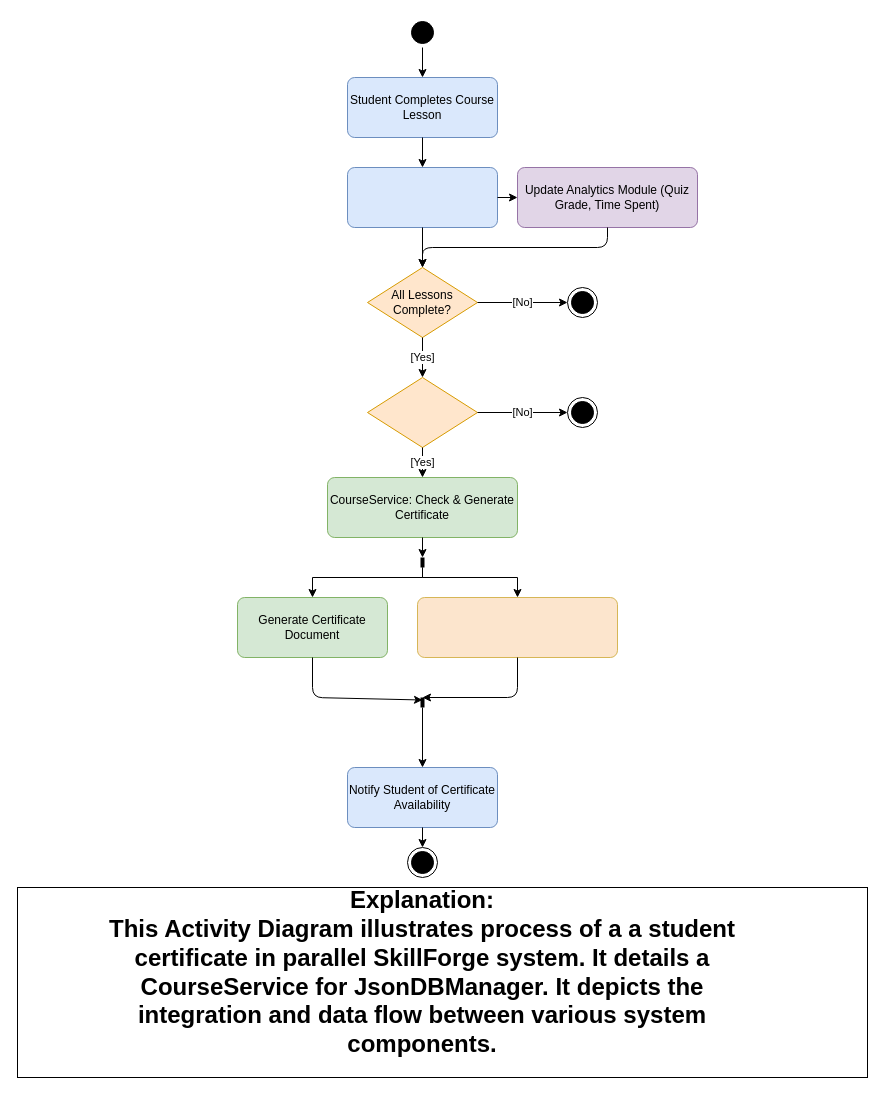
Some shapes in this 885 by 1095 pixel diagram are drawn without their labels. The shapes that lost their labels are listed below. From the top down, each one's box as (x1, y1, x2, y2) in pixels, then its label:
(346, 166, 498, 228): Student Completes Quiz
(366, 376, 478, 448): All Quizzes Passed?
(416, 596, 618, 658): JsonDBManager: Store Certificate (JSON)
